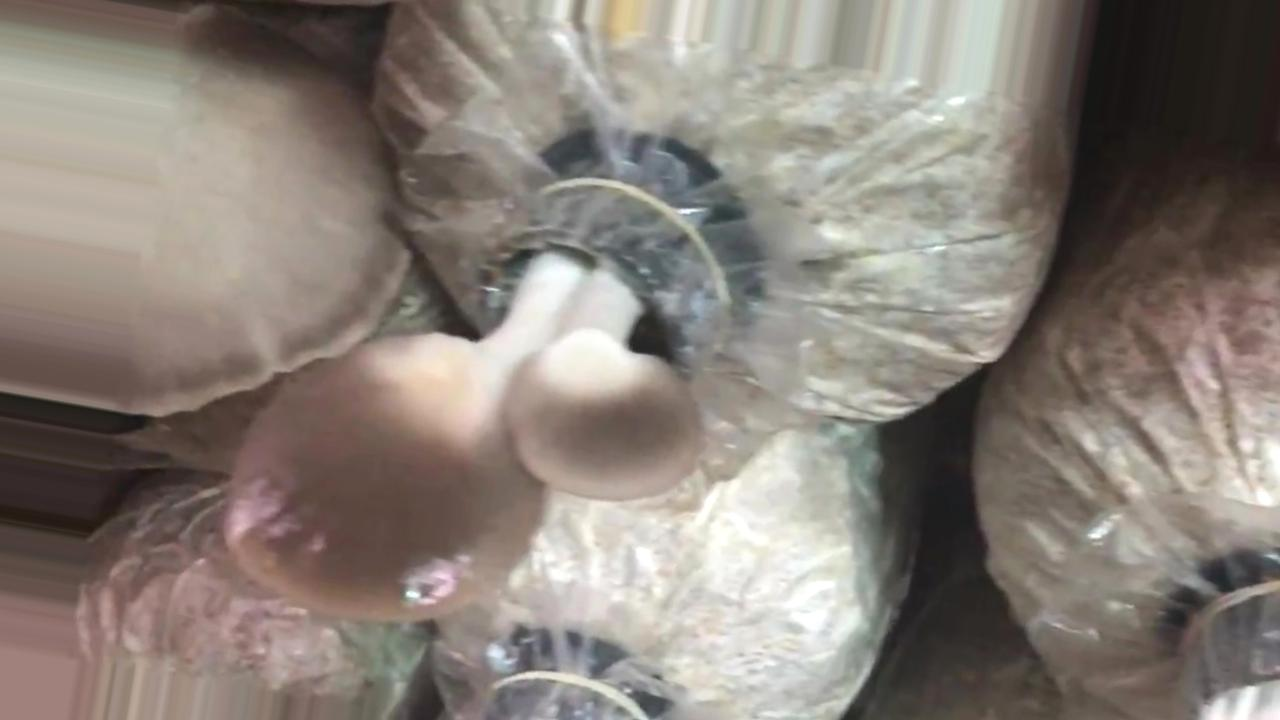nam: (223, 145, 736, 630)
